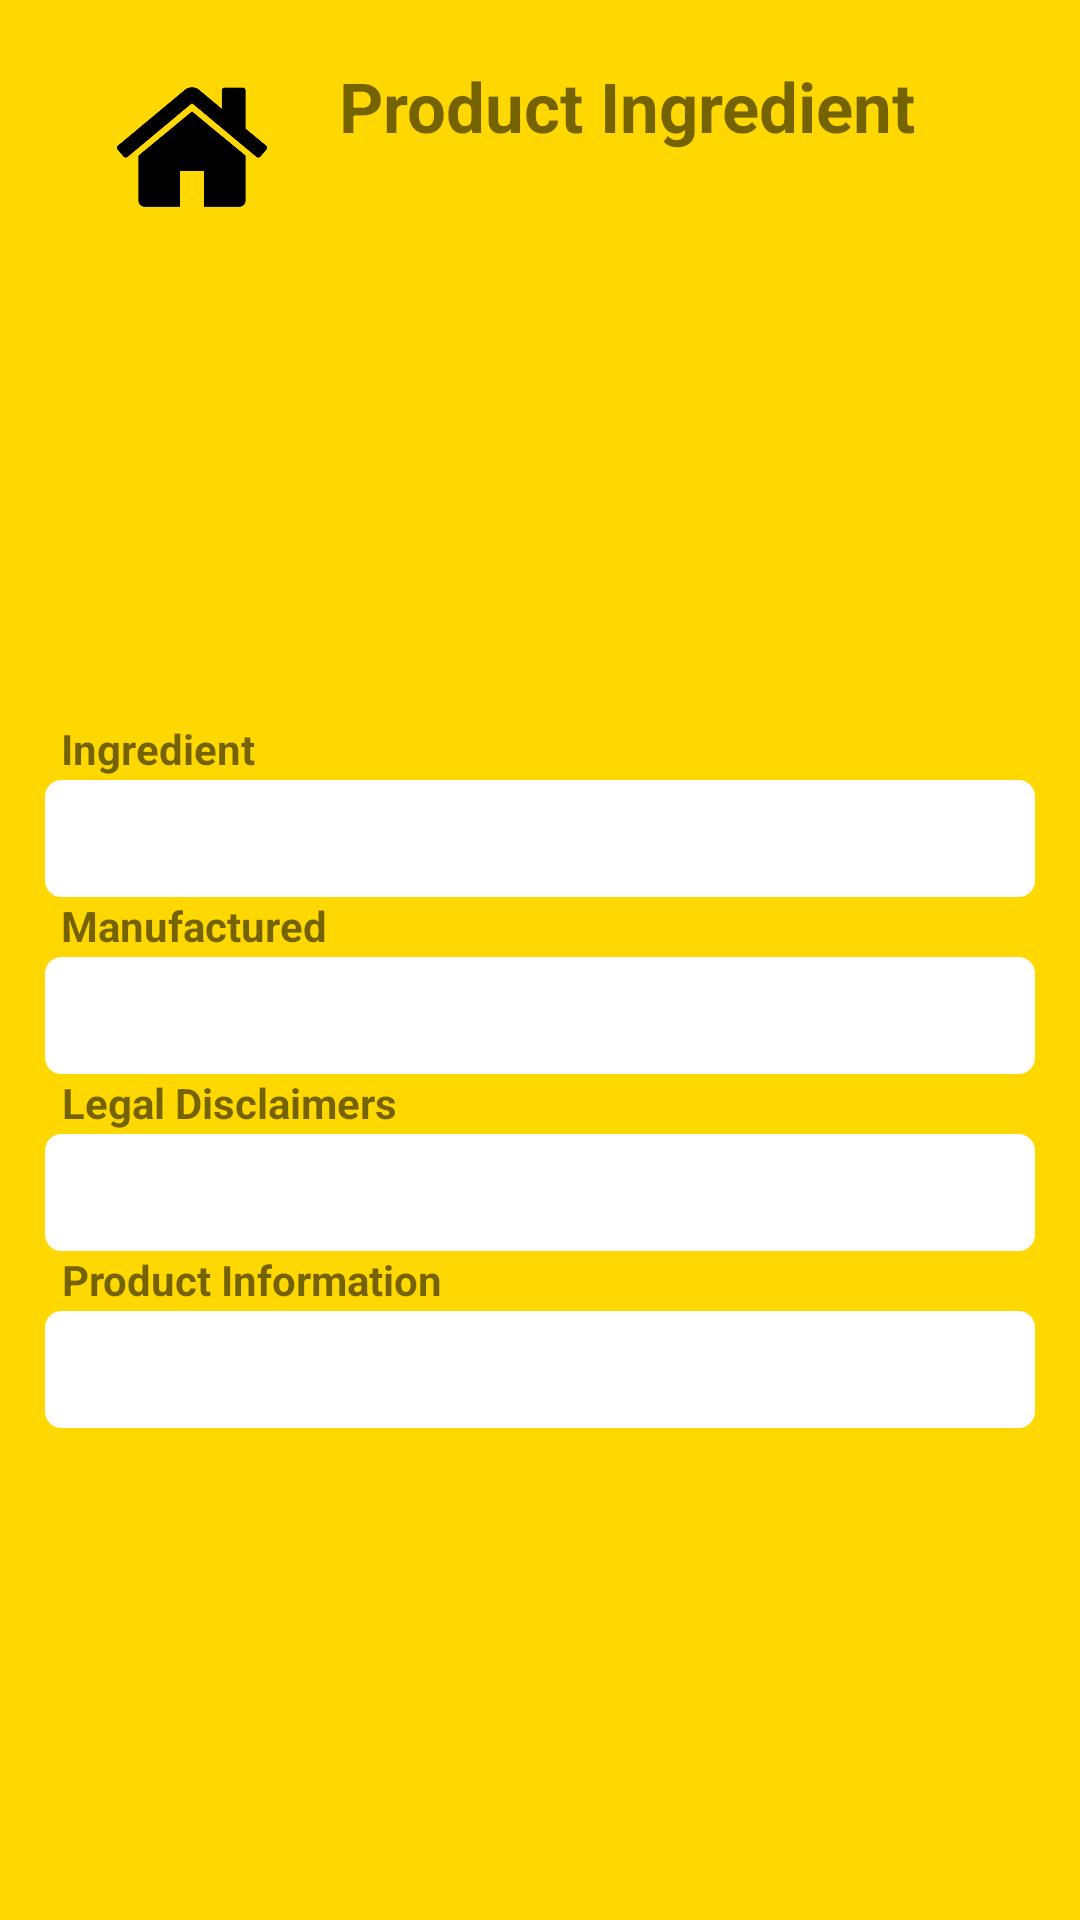

Named icons in this screenshot (1080×1920) and their bounding boxes, (x1, y1, x2, y2):
home: (117, 87, 267, 207)
